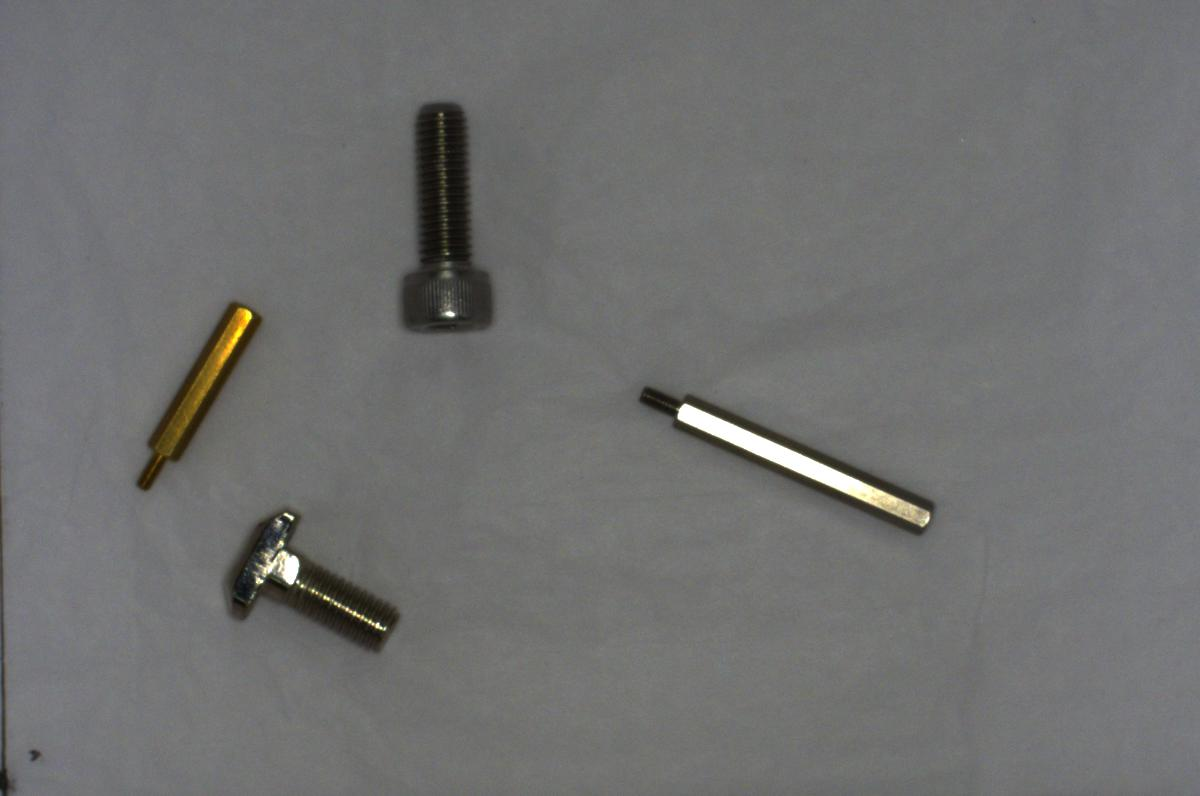Hexagon pillar: (119, 292, 262, 499)
Hexagon screw: (390, 92, 501, 341)
Hexagonal steel column: (624, 385, 939, 545)
T-shaped screw: (220, 501, 402, 656)
